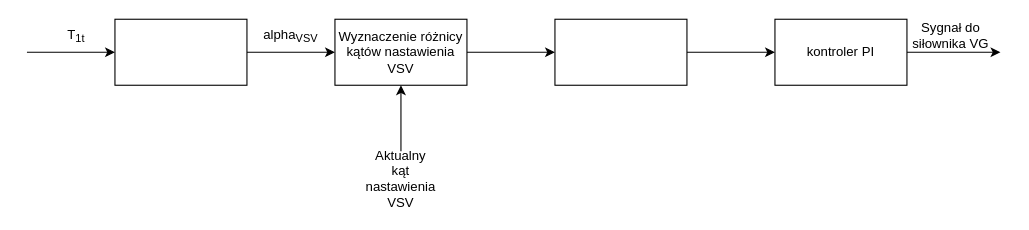
The diagram is 1029 pixels wide and 230 high, and some of its shapes have lost their labels. Each missing label, with the box of its shape:
Wyznaczenie optymalnego kąta VSV: (114, 18, 247, 85)
Średnia 10 ostatnich pomiarów: (554, 18, 687, 85)
